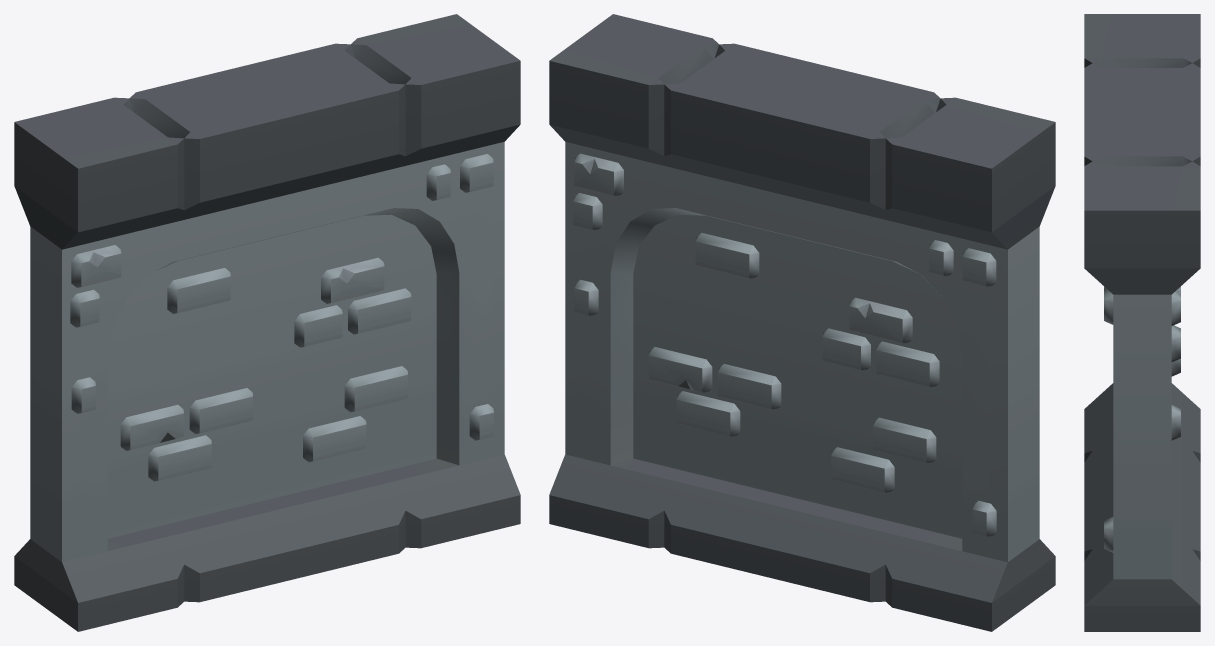
Rendered from wall_arched.glb.
3 views of the same model, side by side, from view 1: azimuth 30°, elevation 25°; view 2: azimuth 150°, elevation 25°; view 3: azimuth 270°, elevation 25° (orthographic). The views are drawn at different scales.
Visible parts, largest first — view 1: wall_arched; view 2: wall_arched; view 3: wall_arched.
Boxes of the visible parts, x1,y1,x2,y2 form: wall_arched: (14, 14, 520, 631); wall_arched: (549, 14, 1055, 631); wall_arched: (1084, 14, 1200, 631).
Size of the model in its own units: 4 by 4 by 1.
1 material, 1 textured.
